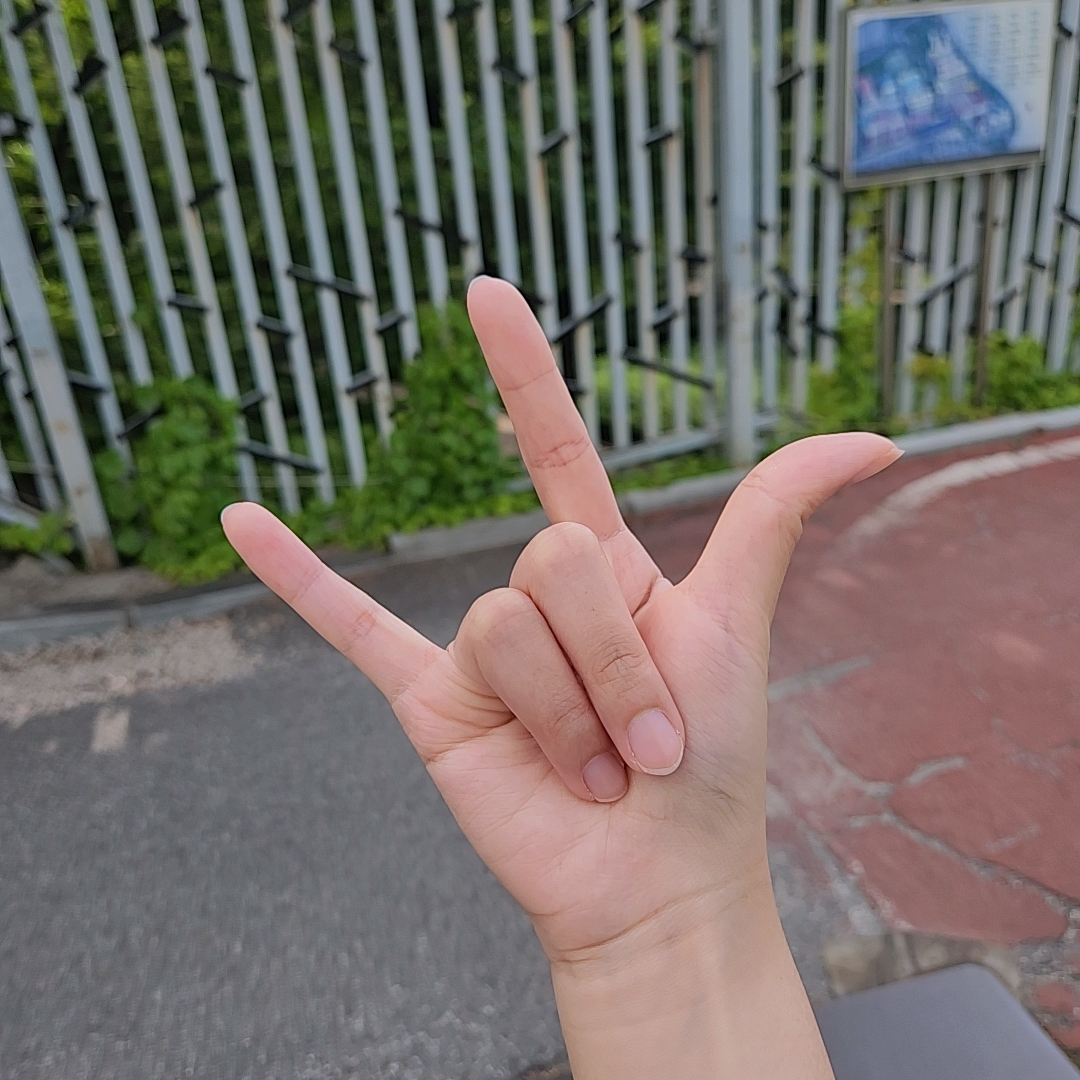iloveyou: (219, 271, 903, 910)
